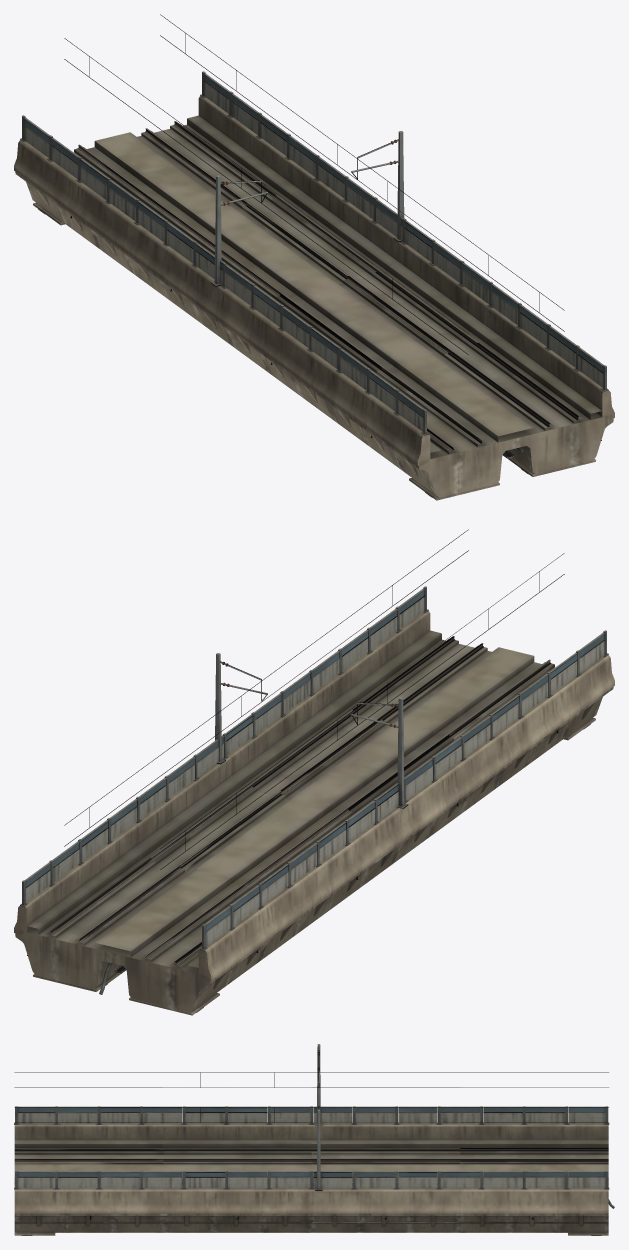
The model's file is metro_span.glb.
3 views of the same model, one above another, from view 1: azimuth 30°, elevation 25°; view 2: azimuth 150°, elevation 25°; view 3: azimuth 270°, elevation 25° (orthographic). The views are drawn at different scales.
Parts seen in each view (by area): view 1: body; view 2: body; view 3: body.
Boxes of the visible parts, bbox=[...] form: body: bbox=[14, 14, 614, 500]; body: bbox=[14, 529, 614, 1015]; body: bbox=[14, 1044, 614, 1235].
Bounding box in the file's own units: 9.86 × 8.43 × 35.34.
Materials: 1 (1 with a texture image).
